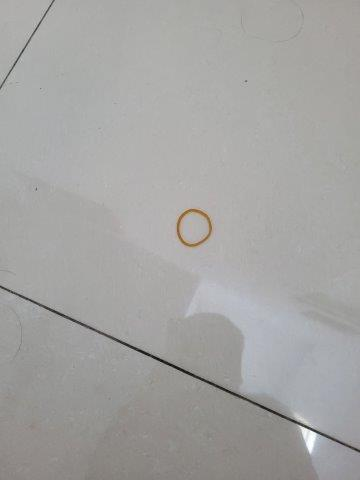karet: (176, 207, 213, 248)
